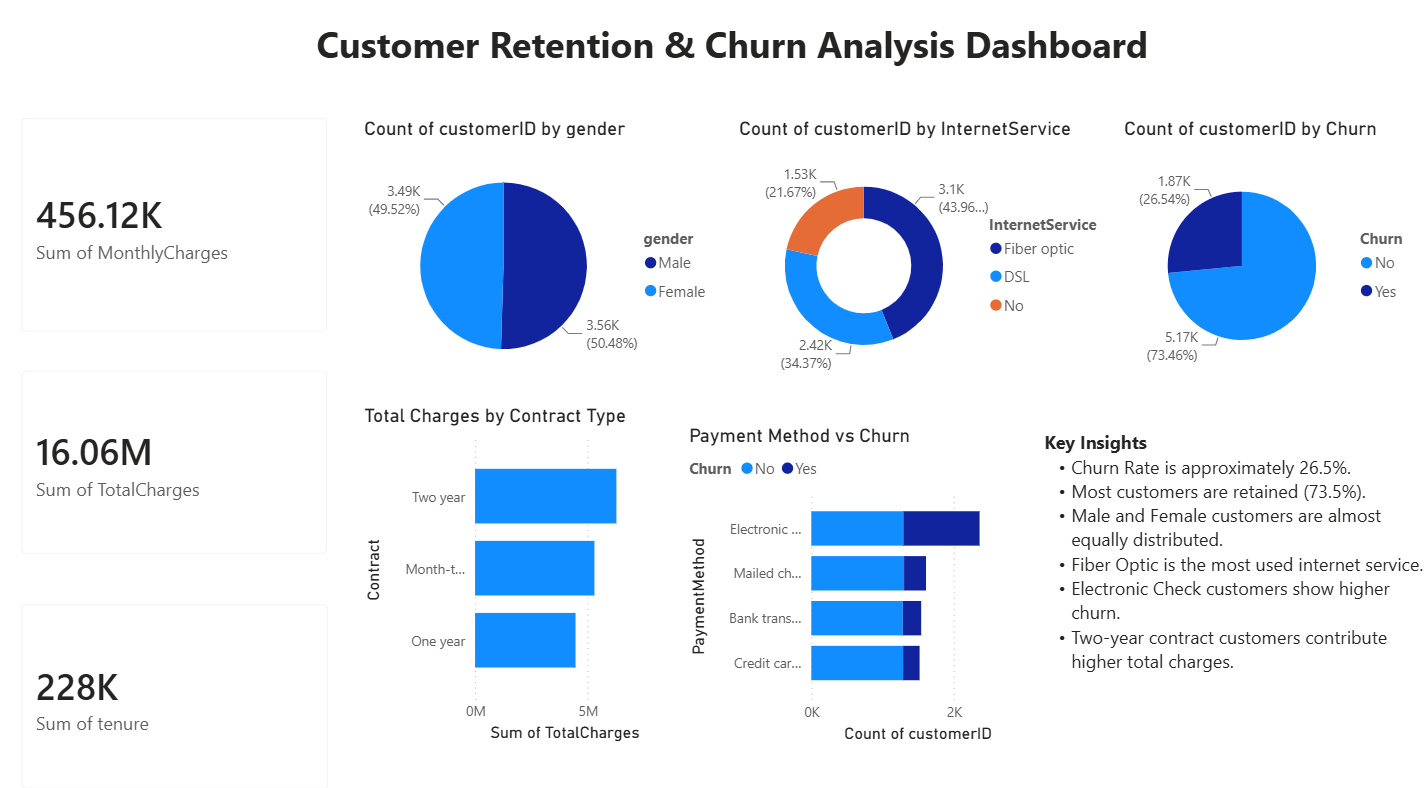

This screenshot's page, from the dashboard's own definition file:
{"tool":"powerbi","page":{"name":"Page 1","canvas":[1280,720],"ordinal":0},"visuals":[{"type":"cardVisual","fields":{"Data":["Sum(WA_Fn-UseC_-Telco-Customer-Churn.MonthlyCharges)"]},"box":[10,88.9,306.7,224.4],"z":0},{"type":"cardVisual","fields":{"Data":["Sum(WA_Fn-UseC_-Telco-Customer-Churn.TotalCharges)"]},"box":[10,313.3,306.7,197.8],"z":1},{"type":"cardVisual","fields":{"Data":["Sum(WA_Fn-UseC_-Telco-Customer-Churn.tenure)"]},"box":[10,521,307,198],"z":2},{"type":"pieChart","fields":{"Category":["WA_Fn-UseC_-Telco-Customer-Churn.gender"],"Y":["CountNonNull(WA_Fn-UseC_-Telco-Customer-Churn.customerID)"]},"box":[326.7,104.4,323.3,246.7],"z":3},{"type":"clusteredBarChart","title":"Total Charges by Contract Type","fields":{"Category":["WA_Fn-UseC_-Telco-Customer-Churn.Contract"],"Y":["Sum(WA_Fn-UseC_-Telco-Customer-Churn.TotalCharges)"]},"box":[326.7,360,277.8,305.6],"z":4},{"type":"donutChart","fields":{"Category":["WA_Fn-UseC_-Telco-Customer-Churn.InternetService"],"Y":["CountNonNull(WA_Fn-UseC_-Telco-Customer-Churn.customerID)"]},"box":[660,104.4,342.2,246.7],"z":5},{"type":"textbox","box":[261.1,13.3,795.6,66.7],"z":6},{"type":"pieChart","fields":{"Category":["WA_Fn-UseC_-Telco-Customer-Churn.Churn"],"Y":["CountNonNull(WA_Fn-UseC_-Telco-Customer-Churn.customerID)"]},"box":[1002.2,104.4,277.8,246.7],"z":7},{"type":"barChart","title":"Payment Method vs Churn","fields":{"Category":["WA_Fn-UseC_-Telco-Customer-Churn.PaymentMethod"],"Y":["CountNonNull(WA_Fn-UseC_-Telco-Customer-Churn.customerID)"],"Series":["WA_Fn-UseC_-Telco-Customer-Churn.Churn"]},"box":[615.6,377.8,315.6,287.8],"z":8},{"type":"textbox","box":[931.1,377.8,348.9,287.8],"z":9}]}

Visuals, with their boxes in screenshot pixels (x1, y1, x2, y2), scaled from the page's 1280x720 canvas onto the 1427x788 screenshot:
cardVisual - Sum(WA_Fn-UseC_-Telco-Customer-Churn.MonthlyCharges): <region>11, 97, 353, 343</region>
cardVisual - Sum(WA_Fn-UseC_-Telco-Customer-Churn.TotalCharges): <region>11, 343, 353, 559</region>
cardVisual - Sum(WA_Fn-UseC_-Telco-Customer-Churn.tenure): <region>11, 570, 353, 787</region>
pieChart - WA_Fn-UseC_-Telco-Customer-Churn.gender x CountNonNull(WA_Fn-UseC_-Telco-Customer-Churn.customerID): <region>364, 114, 725, 384</region>
"Total Charges by Contract Type" clusteredBarChart: <region>364, 394, 674, 728</region>
donutChart - WA_Fn-UseC_-Telco-Customer-Churn.InternetService x CountNonNull(WA_Fn-UseC_-Telco-Customer-Churn.customerID): <region>736, 114, 1117, 384</region>
textbox: <region>291, 15, 1178, 88</region>
pieChart - WA_Fn-UseC_-Telco-Customer-Churn.Churn x CountNonNull(WA_Fn-UseC_-Telco-Customer-Churn.customerID): <region>1117, 114, 1426, 384</region>
"Payment Method vs Churn" barChart: <region>686, 413, 1038, 728</region>
textbox: <region>1038, 413, 1426, 728</region>
